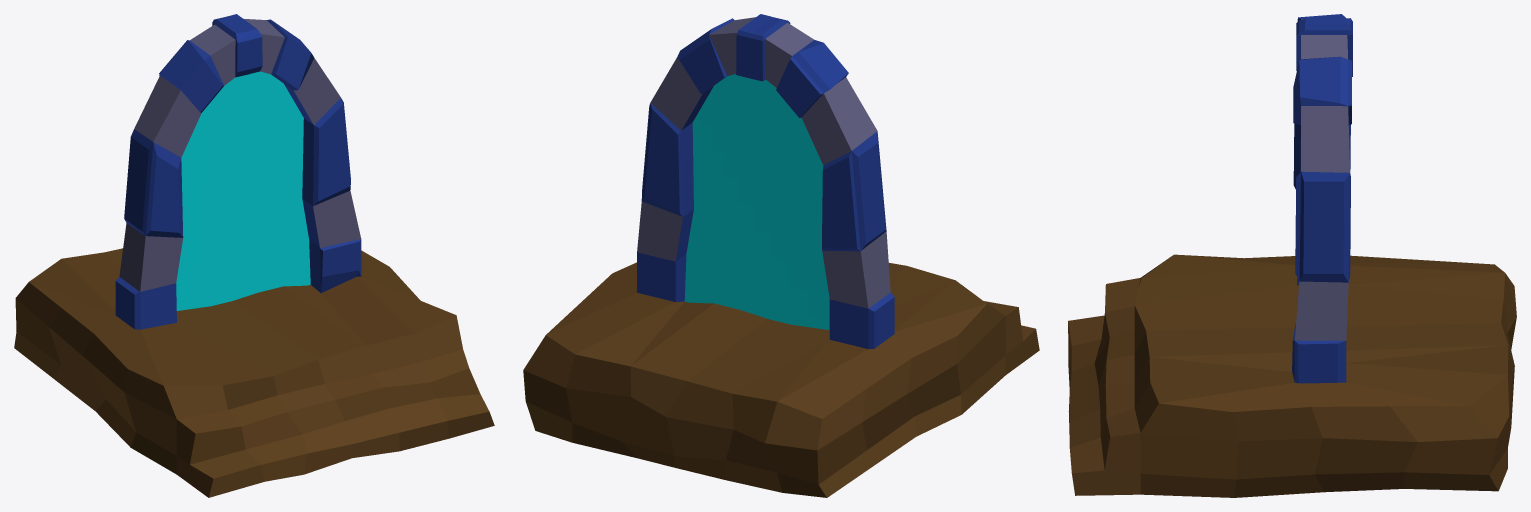
The model's file is Portal.fbx.
3 renders of one model, left to right at view 1: azimuth 30°, elevation 25°; view 2: azimuth 150°, elevation 25°; view 3: azimuth 270°, elevation 25°, orthographic. The views are drawn at different scales.
Parts seen in each view (by area): view 1: Frame, Portal; view 2: Frame, Portal; view 3: Frame.
Boxes of the visible parts, x1,y1,x2,y2 form: Frame: (14,14,494,497); Portal: (176,71,310,310); Frame: (523,14,1039,497); Portal: (684,69,829,329); Frame: (1068,14,1516,497).
Bounding box in the file's own units: 1.96 × 2.25 × 2.28.
